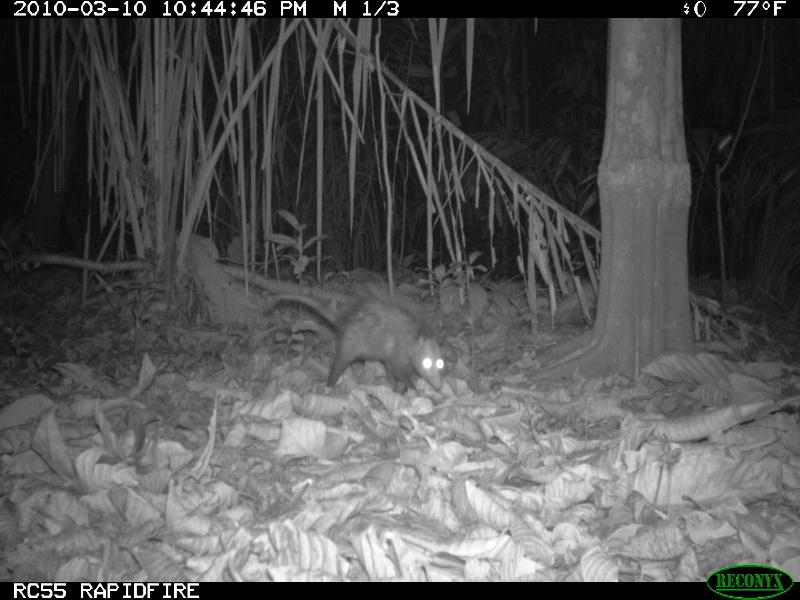opossum: (260, 283, 453, 407)
